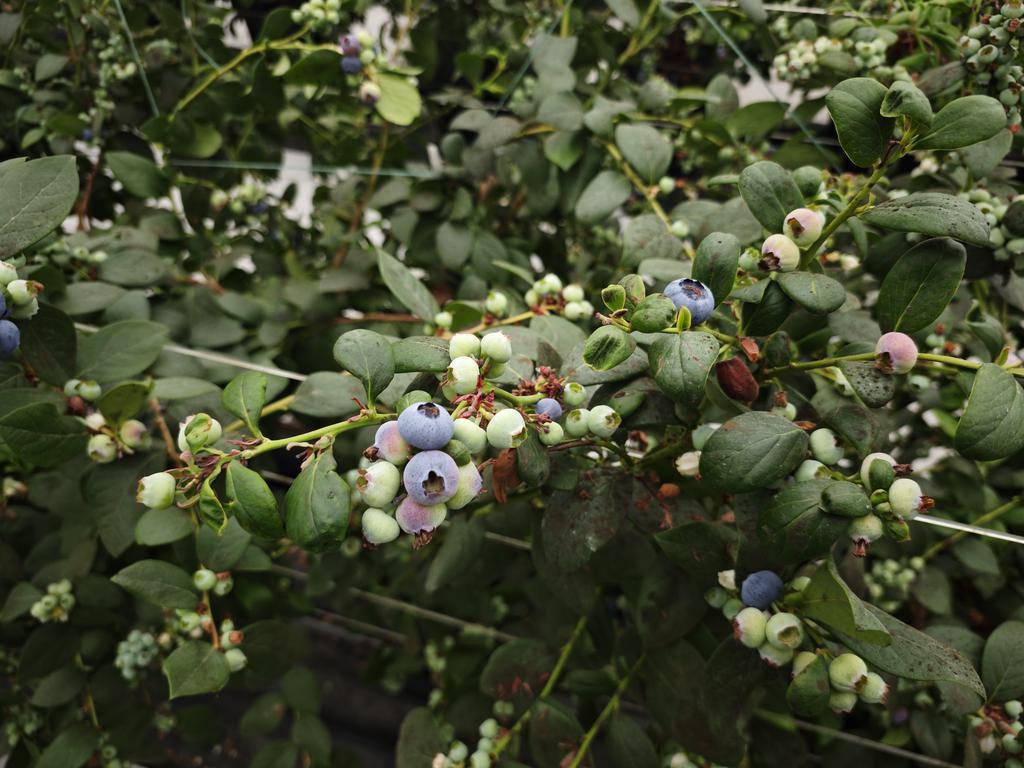RipeBlueBerry: (397, 400, 456, 450), (664, 277, 717, 325), (740, 568, 784, 609)
Semi-RipeBlueBerry: (403, 449, 461, 507), (875, 331, 920, 376)
UnripeBlueBerry: (356, 460, 400, 509), (396, 498, 447, 536), (485, 408, 528, 452), (888, 477, 927, 522), (760, 232, 801, 274)
